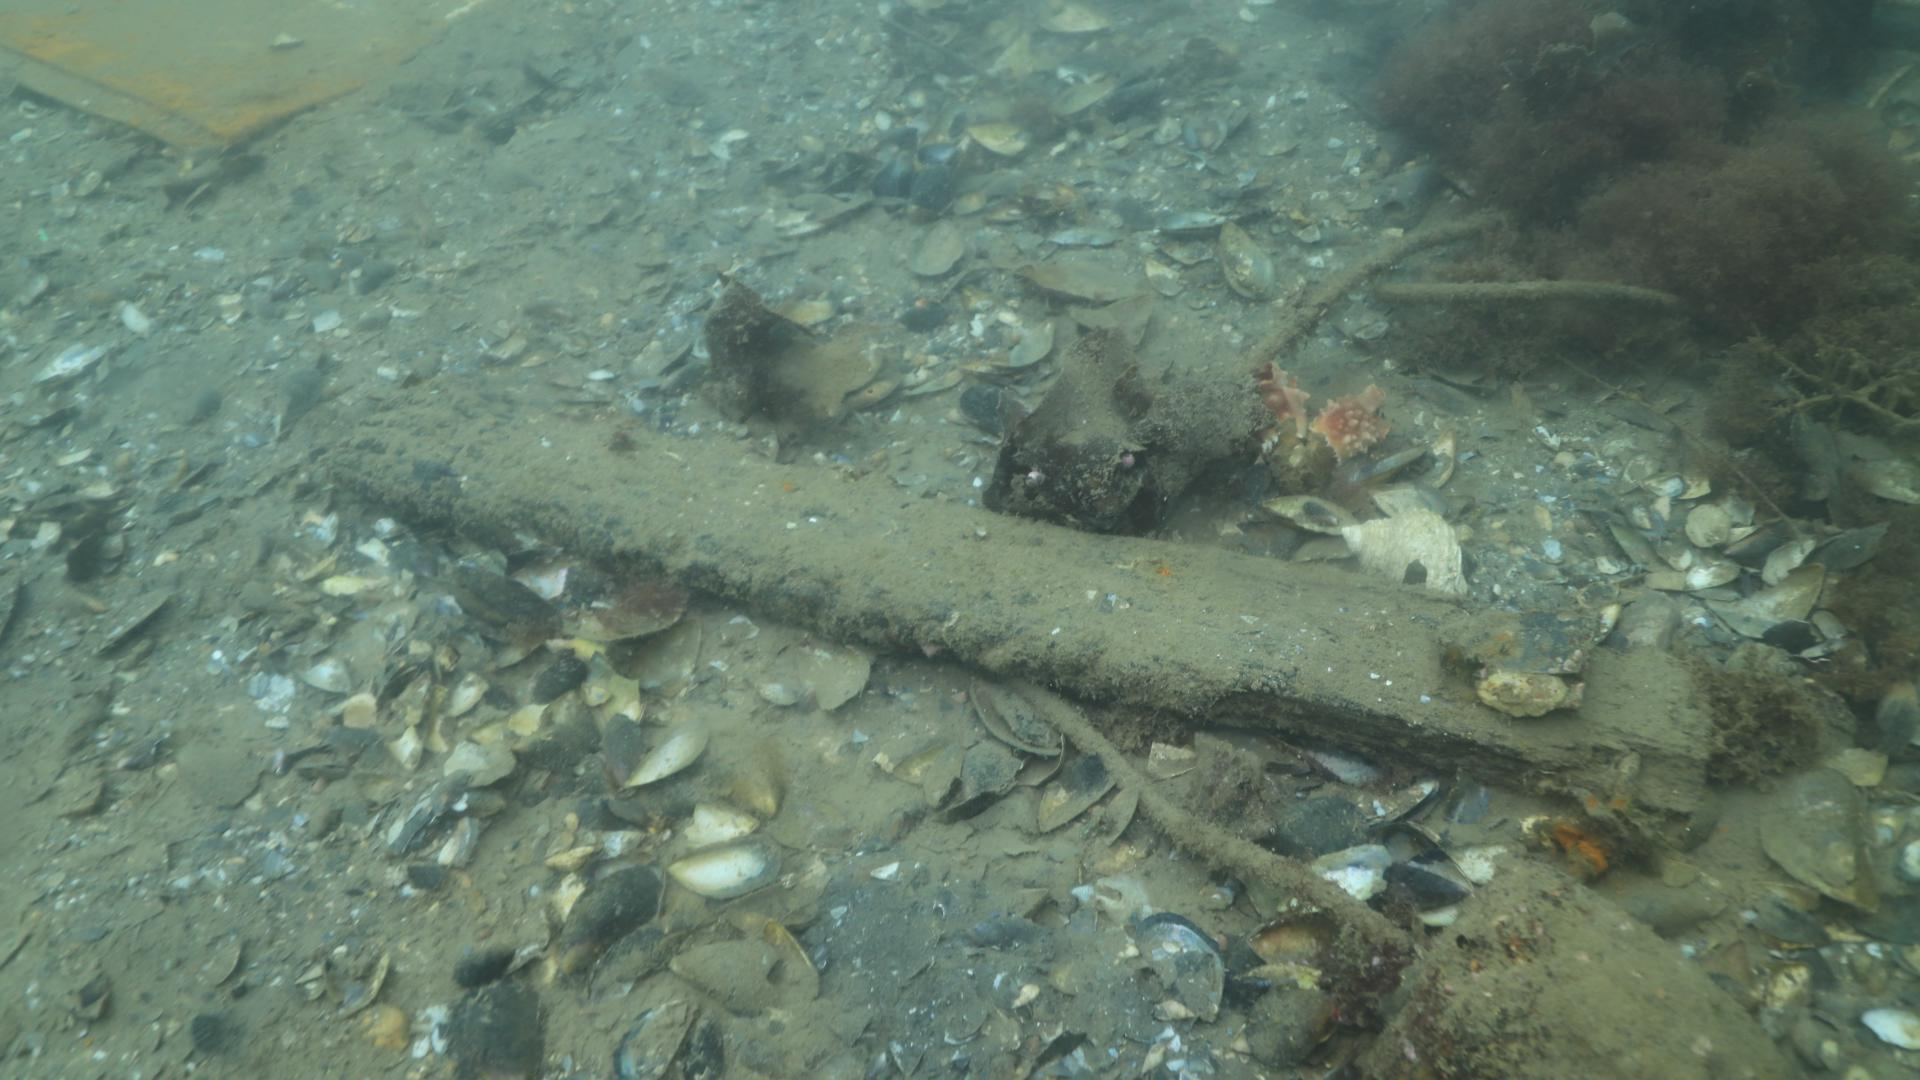bundle of ropes: (1237, 211, 1680, 375)
rope: (1007, 674, 1418, 961)
wood: (323, 382, 1712, 845)
